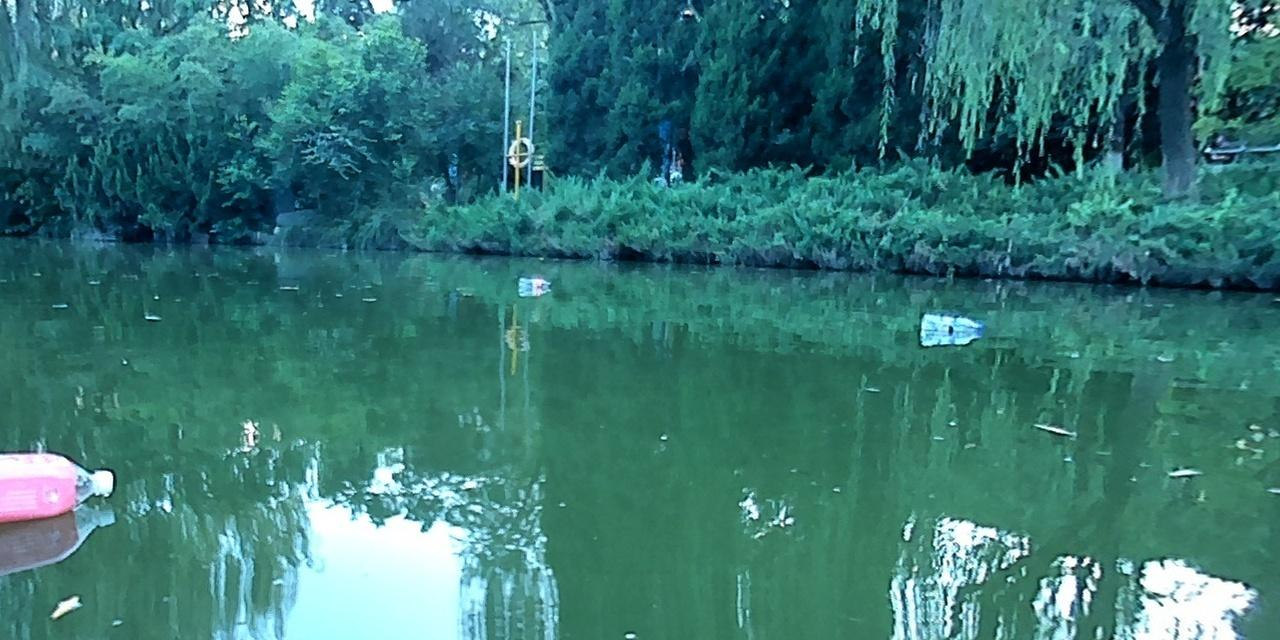bottle: (0, 451, 114, 521), (919, 313, 981, 339), (517, 276, 548, 291)
